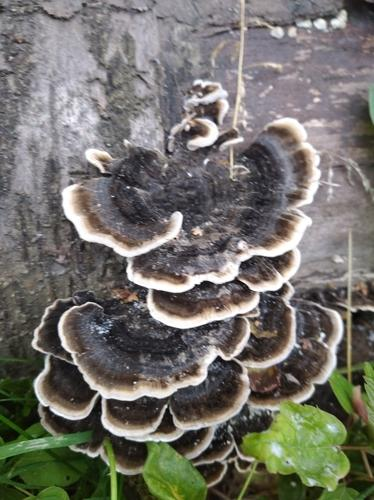Non-edible Mushroom: (33, 284, 355, 500), (60, 114, 323, 329)
